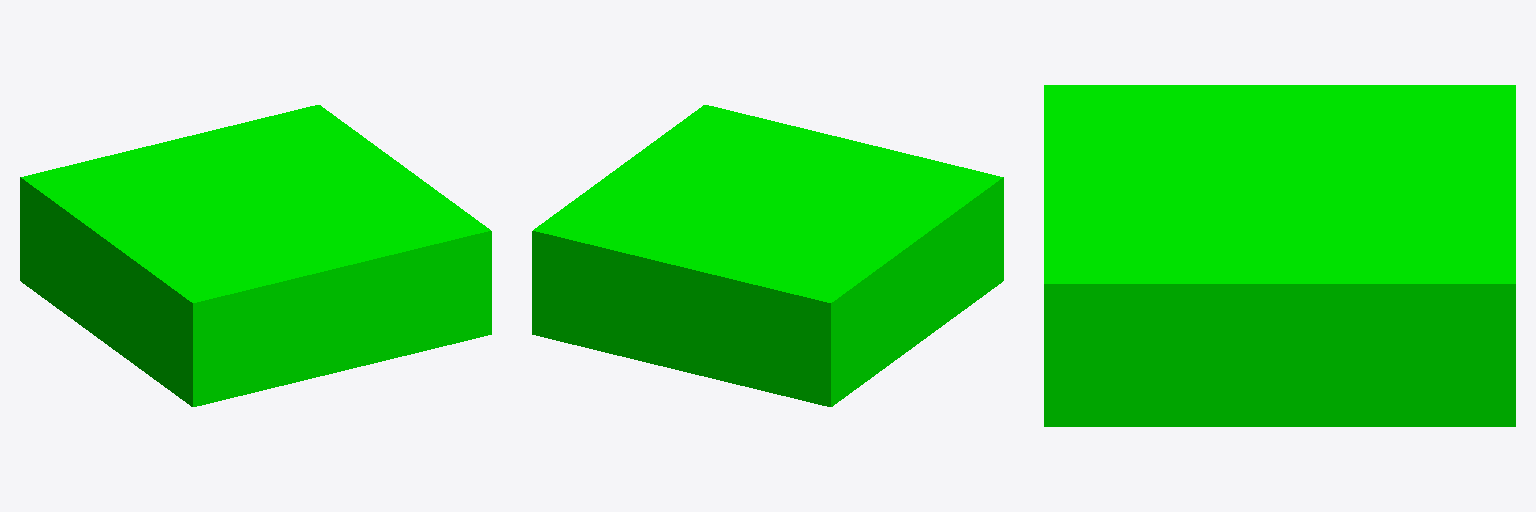
The robot description file, URDF, robot "box":
<?xml version="1.0"?> 
<robot name="box">
    <material name="green">
        <color rgba="0 1 0 0.85"/>
    </material>

    <link name="base_link">
        <visual>
            <geometry>
                <box size="0.6 0.6 0.2"/>
                <origin rpy="0 0 0" xyz="0 0 0"/>
            </geometry>
            <material name="green"/>
        </visual>
        <collision> 
             <geometry> 
                <box size="0.6 0.6 0.2"/>
                <origin rpy="0 0 0" xyz="0 0 0"/>
            </geometry>
        </collision> 
        <inertial> 
            <mass value="1.0"/>
            <inertia ixx="1.0" ixy="0.0" ixz="0.0" iyy="1.0" iyz="0.0" izz="1.0"/>
        </inertial> 
        <contact>
            <lateral_friction value="0.6"/>
        </contact>
    </link>
</robot>

--- Render facts (derived) ---
The picture shows the robot from 3 angles, left to right: view 1: azimuth 30°, elevation 25°; view 2: azimuth 150°, elevation 25°; view 3: azimuth 270°, elevation 25°; orthographic projection.
Model box with 1 links and 0 joints (none), rooted at base_link, posed every joint at zero.
Visible links, largest first — view 1: base_link; view 2: base_link; view 3: base_link.
Link boxes in pixels (left/top/right/bottom): base_link: left=20, top=105, right=491, bottom=406; base_link: left=532, top=105, right=1003, bottom=406; base_link: left=1044, top=85, right=1515, bottom=426.
Size in the robot's own frame: 0.6 by 0.6 by 0.2 metres.
Geometry: primitives only (box / cylinder / sphere), no mesh files.